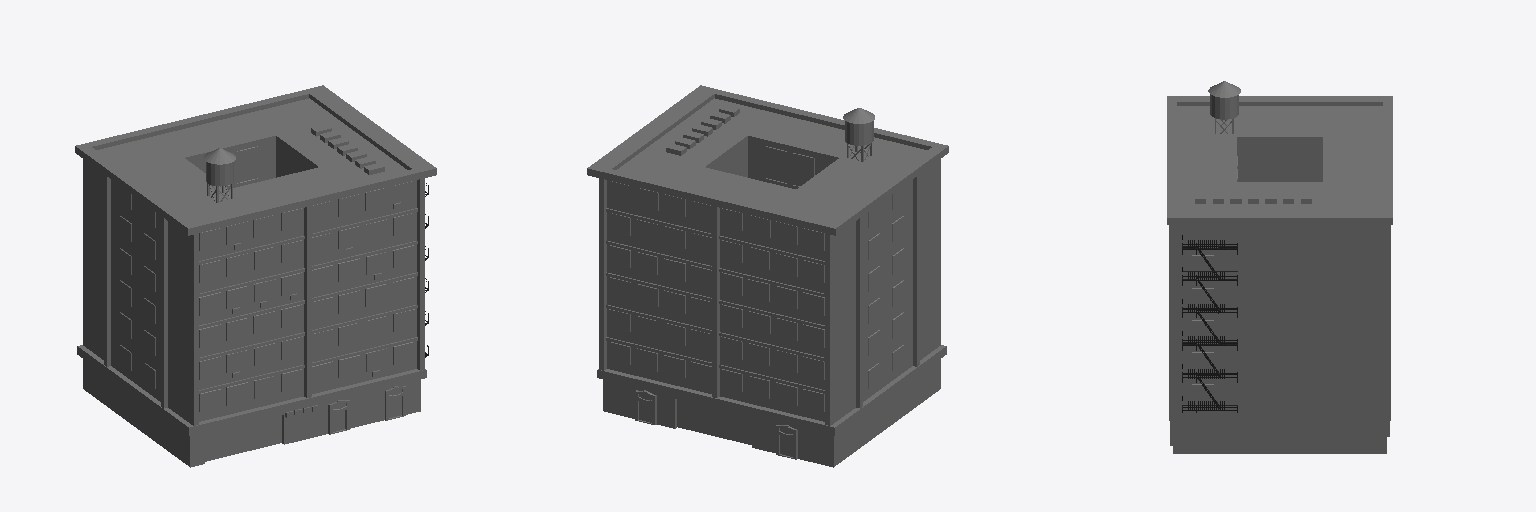
File: Building_A11.obj
3 renders of one model, left to right at view 1: azimuth 30°, elevation 25°; view 2: azimuth 150°, elevation 25°; view 3: azimuth 270°, elevation 25°, orthographic.
Parts seen in each view (by area): view 1: K_Building_A11_00; view 2: K_Building_A11_00; view 3: K_Building_A11_00.
Boxes of the visible parts, x1,y1,x2,y2 form: K_Building_A11_00: [75, 85, 436, 467]; K_Building_A11_00: [587, 85, 948, 467]; K_Building_A11_00: [1167, 81, 1392, 453].
Size of the model in its own units: 26.58 by 29.28 by 21.01.